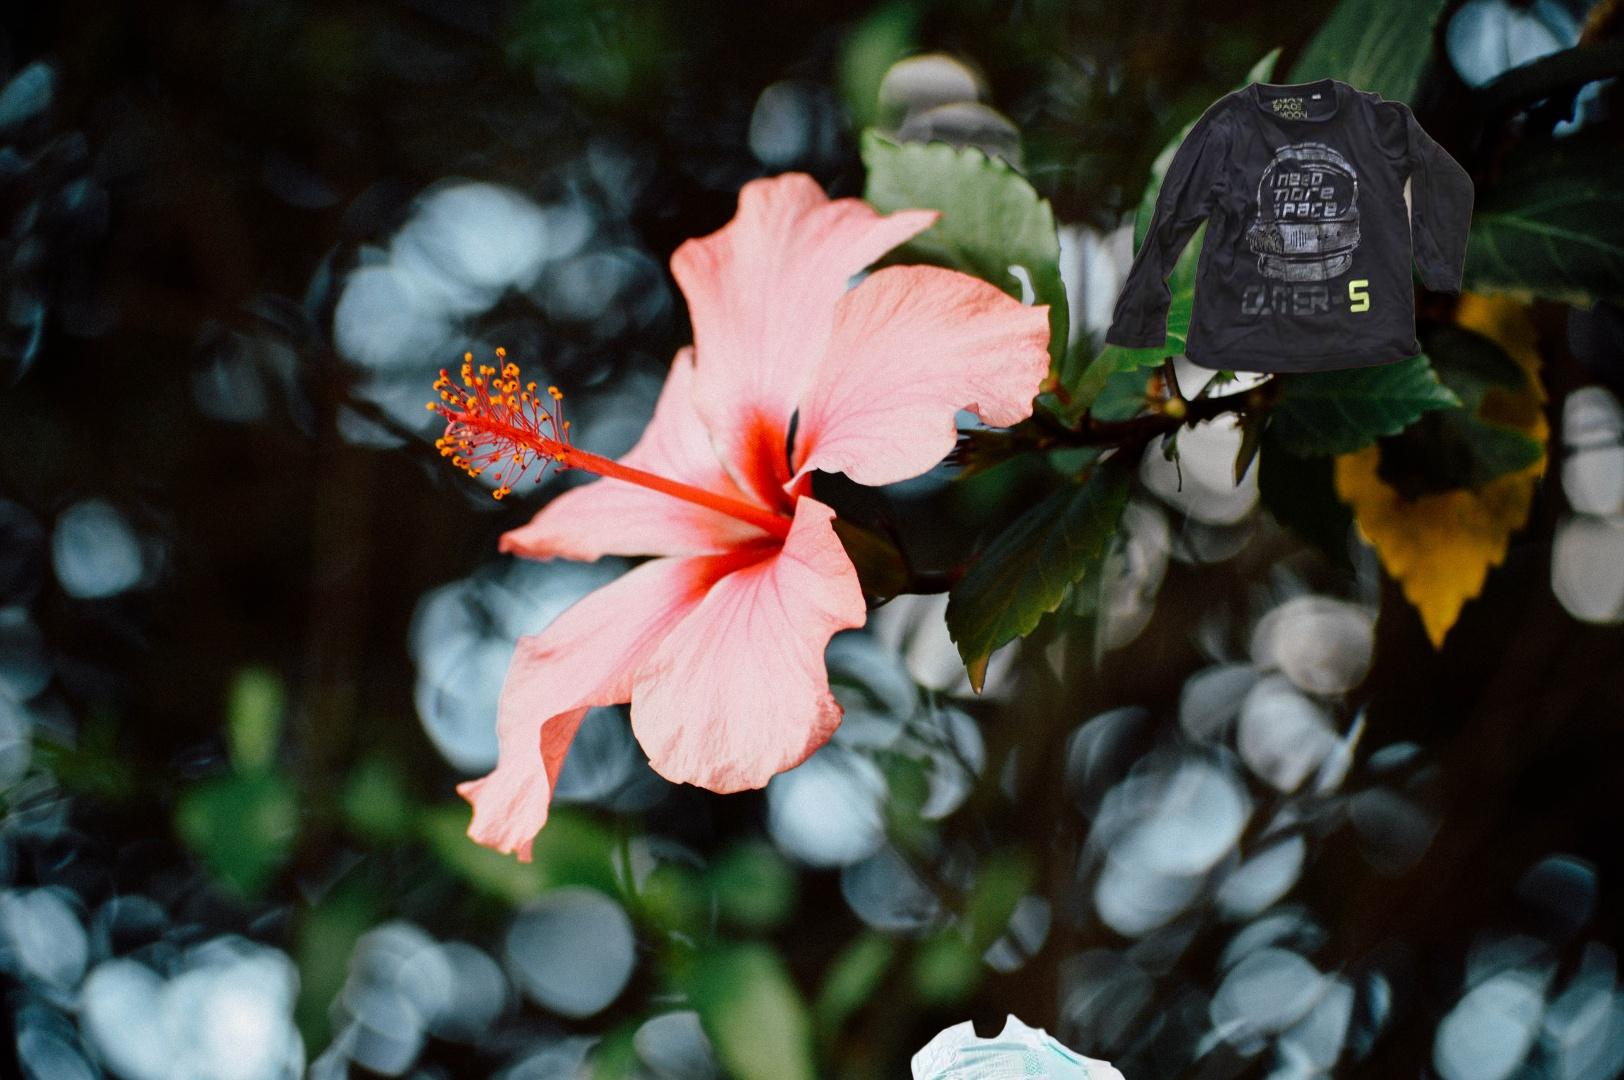clothes: (1101, 72, 1476, 378)
trash: (907, 1005, 1140, 1080)
